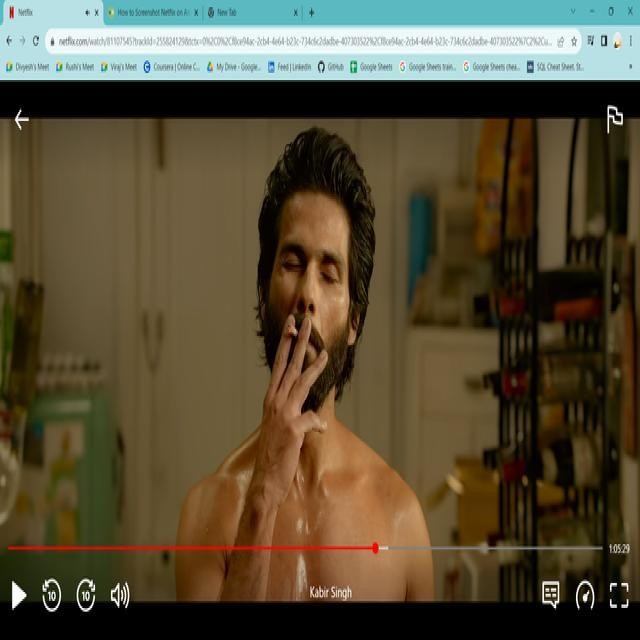smoking: (281, 308, 305, 352)
